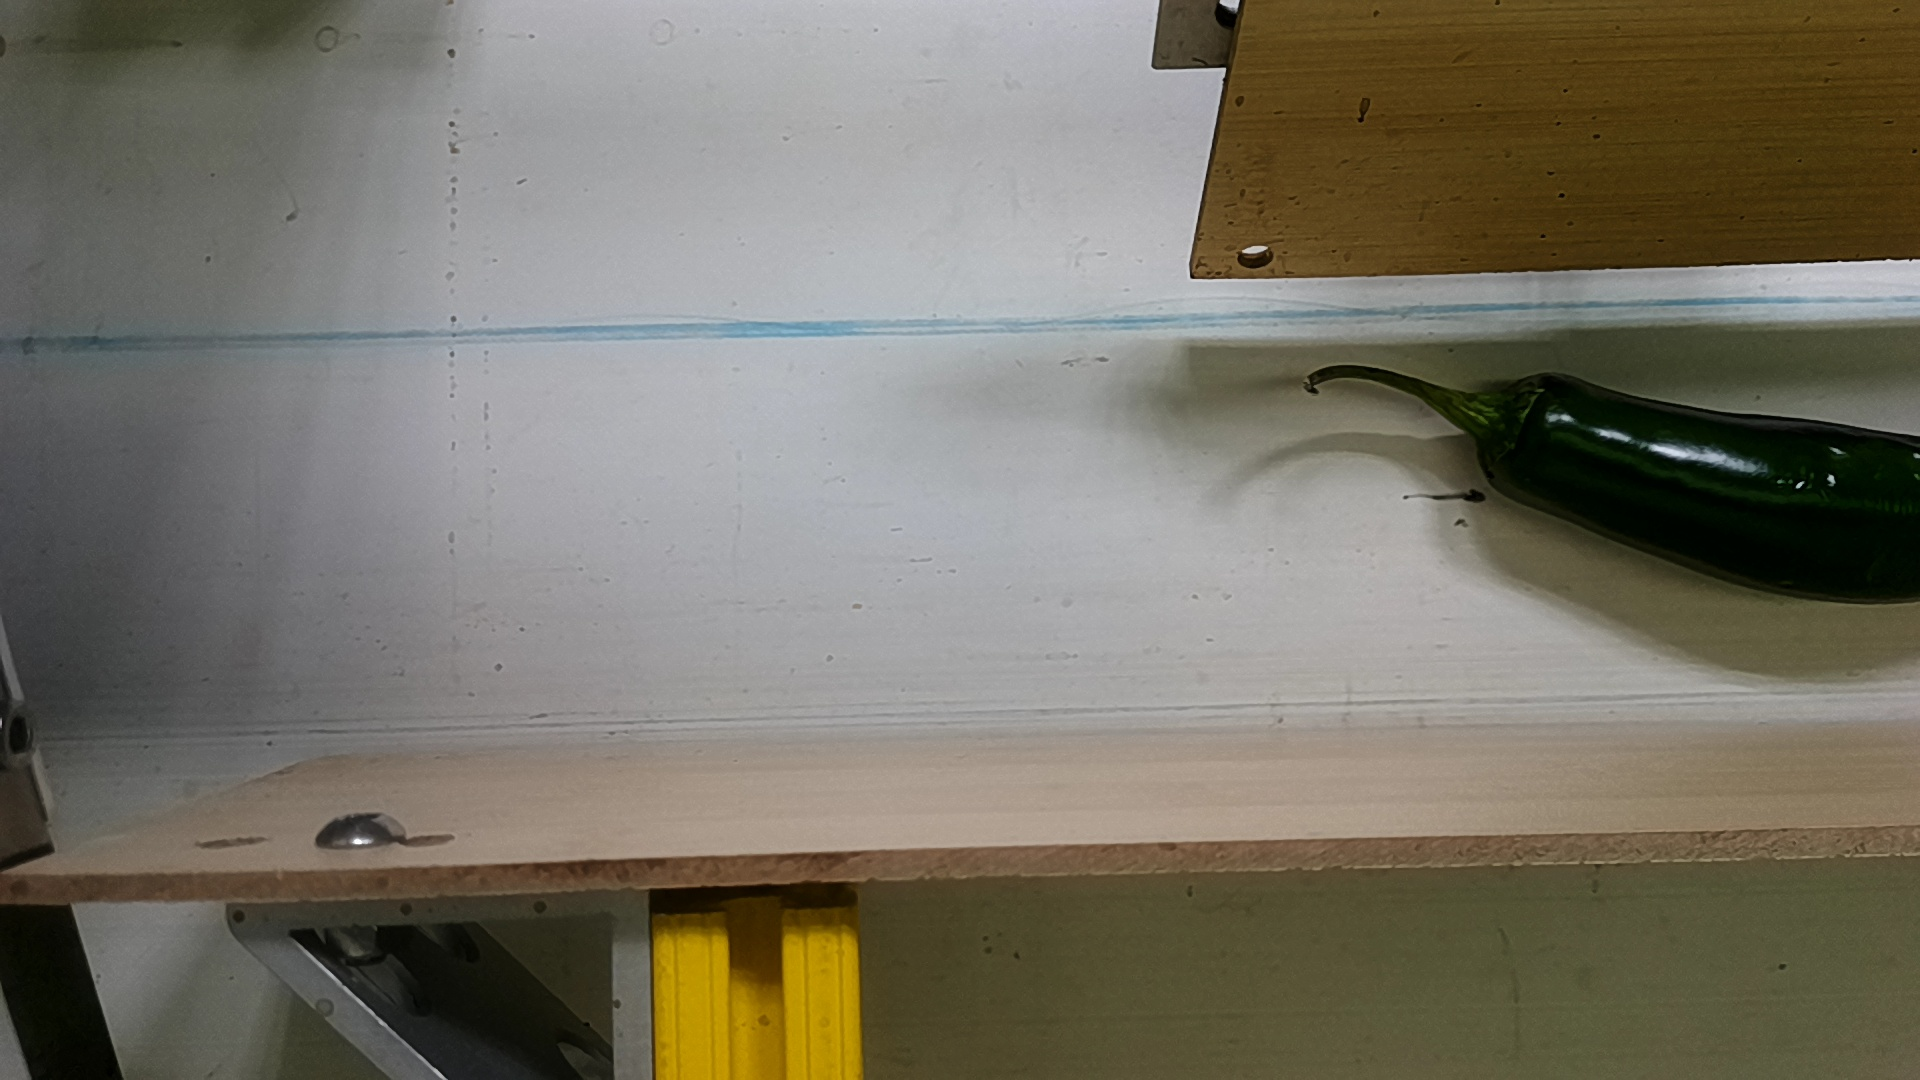Cut Point: (1470, 357, 1572, 508)
